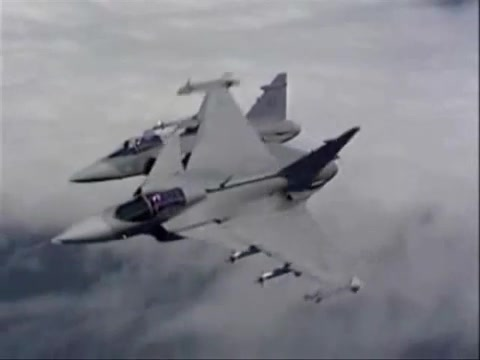aeroplane: (49, 73, 372, 305)
